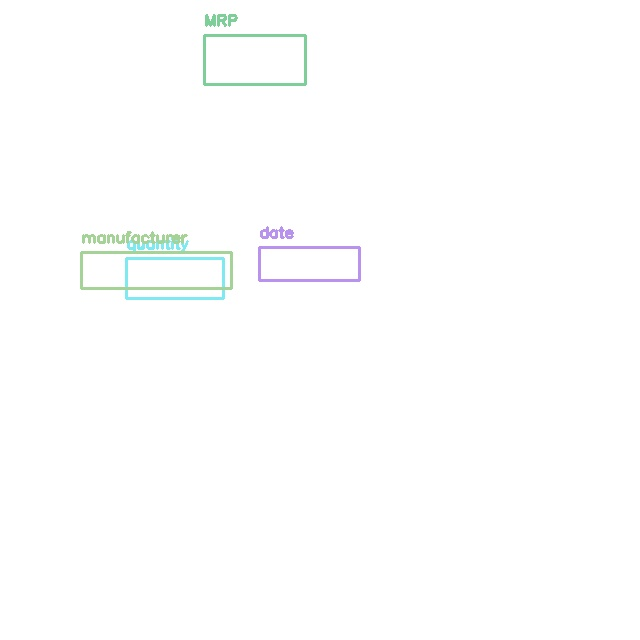MRP: (204, 35, 305, 84)
date: (259, 247, 359, 280)
manufacturer: (81, 252, 231, 288)
quantity: (126, 258, 223, 298)
